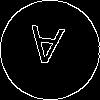A: (25, 25, 65, 75)
